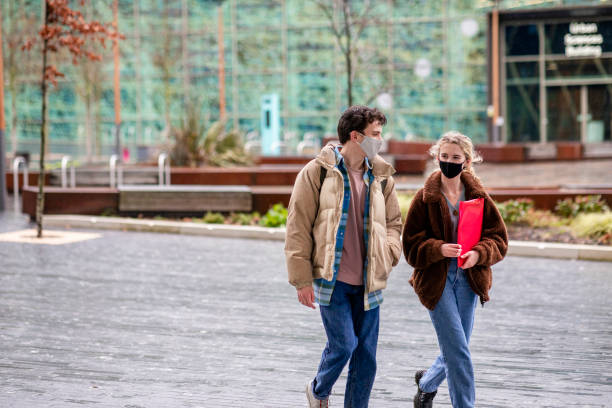with mask: (338, 114, 389, 161), (430, 133, 470, 177)
